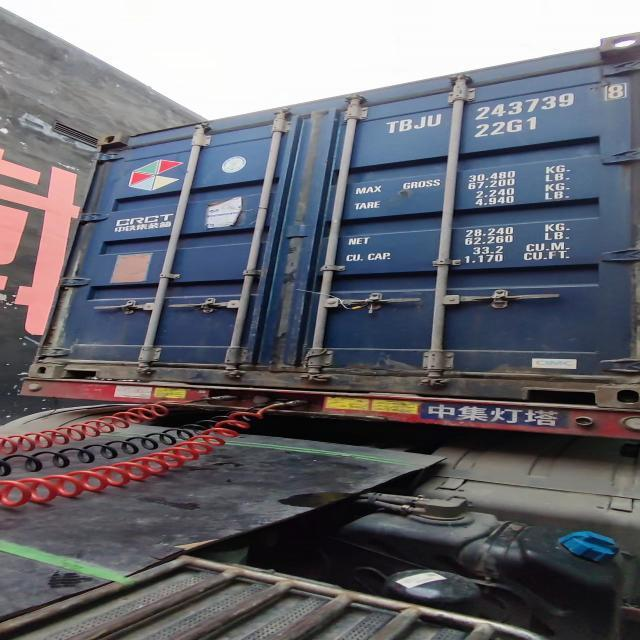ISO: (472, 116, 542, 140)
container_number: (384, 82, 630, 134)
